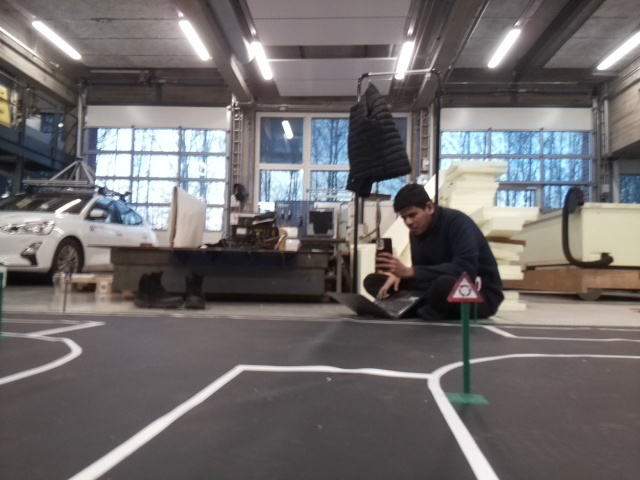Roundabout: (445, 272, 484, 301)
